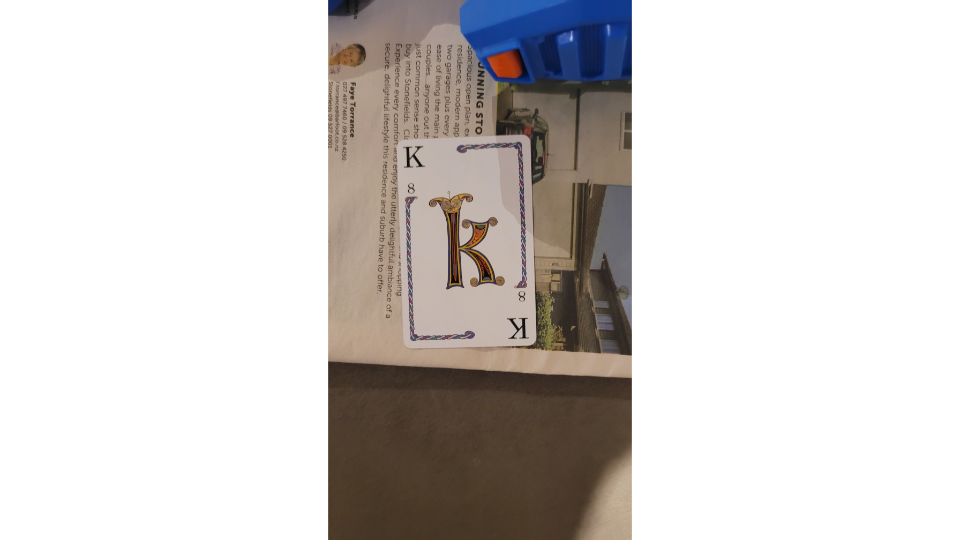K: (395, 134, 541, 351)
